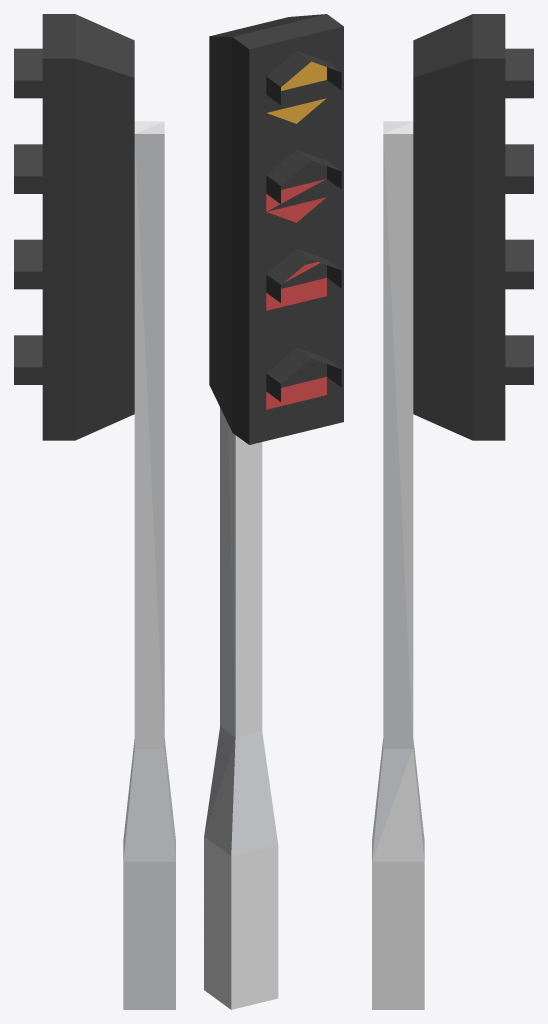
Rendered from lightRed.obj.
3 renders of one model, left to right at view 1: azimuth 90°, elevation 25°; view 2: azimuth 210°, elevation 25°; view 3: azimuth 270°, elevation 25°, orthographic. The views are drawn at different scales.
Parts seen in each view (by area): view 1: lightRed; view 2: lightRed; view 3: lightRed.
Boxes of the visible parts, x1,y1,x2,y2 form: lightRed: [14, 14, 175, 1009]; lightRed: [204, 14, 343, 1009]; lightRed: [372, 14, 533, 1009].
Size of the model in its own units: 0.0708 by 0.7134 by 0.1087.
